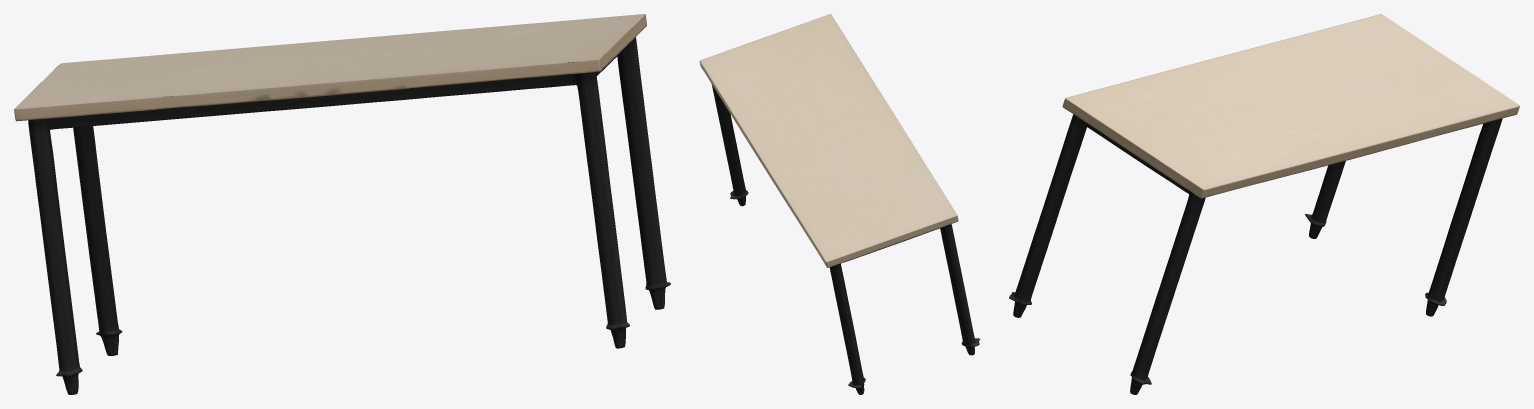
File: light-colored_wooden_table_in_back_row_(left)_000.glb
3 views of the same model, side by side, from view 1: azimuth 30°, elevation 25°; view 2: azimuth 150°, elevation 25°; view 3: azimuth 270°, elevation 25° (orthographic). The views are drawn at different scales.
Visible parts, largest first — view 1: light-colored_wooden_table_in_back_row_(left)_000.obj; view 2: light-colored_wooden_table_in_back_row_(left)_000.obj; view 3: light-colored_wooden_table_in_back_row_(left)_000.obj.
Part boxes in pixels (x1,y1,x2,y2): light-colored_wooden_table_in_back_row_(left)_000.obj: (14,14,670,394); light-colored_wooden_table_in_back_row_(left)_000.obj: (699,14,980,394); light-colored_wooden_table_in_back_row_(left)_000.obj: (1009,14,1519,394).
Bounding box in the file's own units: 0.6367 × 0.4533 × 0.6434.
Materials: 1 (1 with a texture image).
